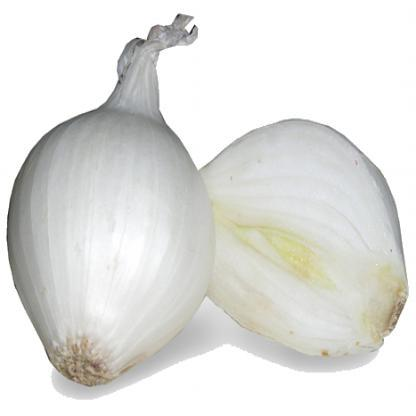onion: (14, 80, 245, 392)
